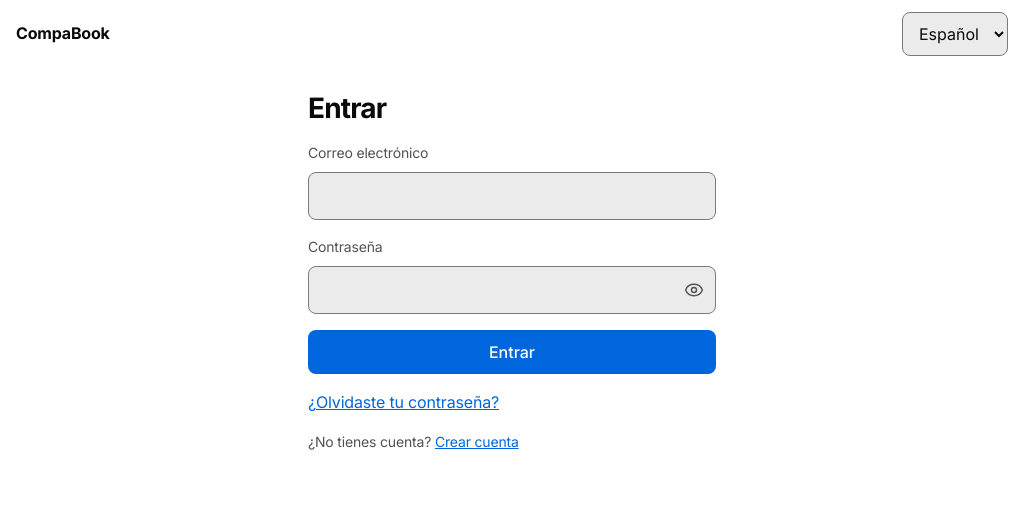
Test case: login › credenciales incorrectas
Type "ana@example.com" into the field labelled "Correo electrónico" at (512, 196), box [308,172,716,220]
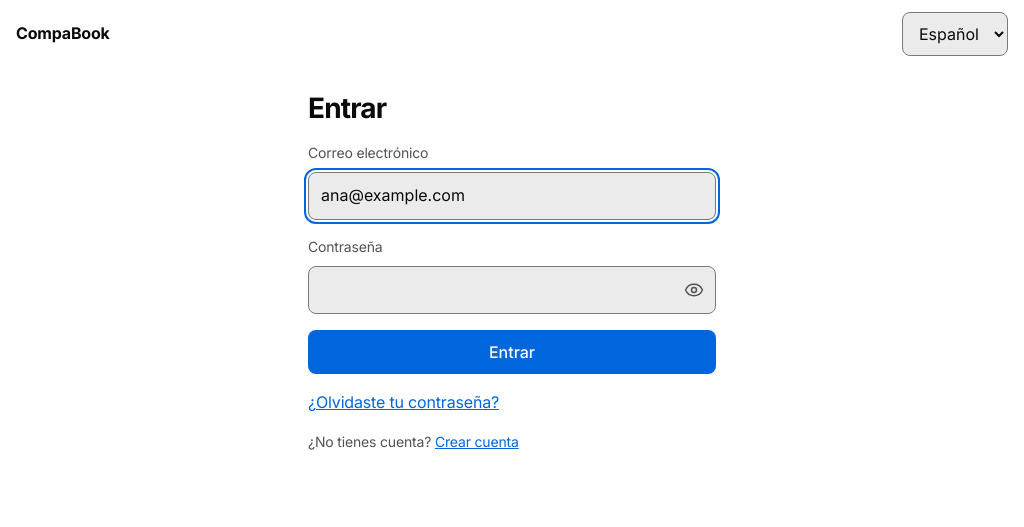
Type "caballo-grapa-azul" into the password field labelled "Contraseña" at (512, 290), box [308,266,716,314]
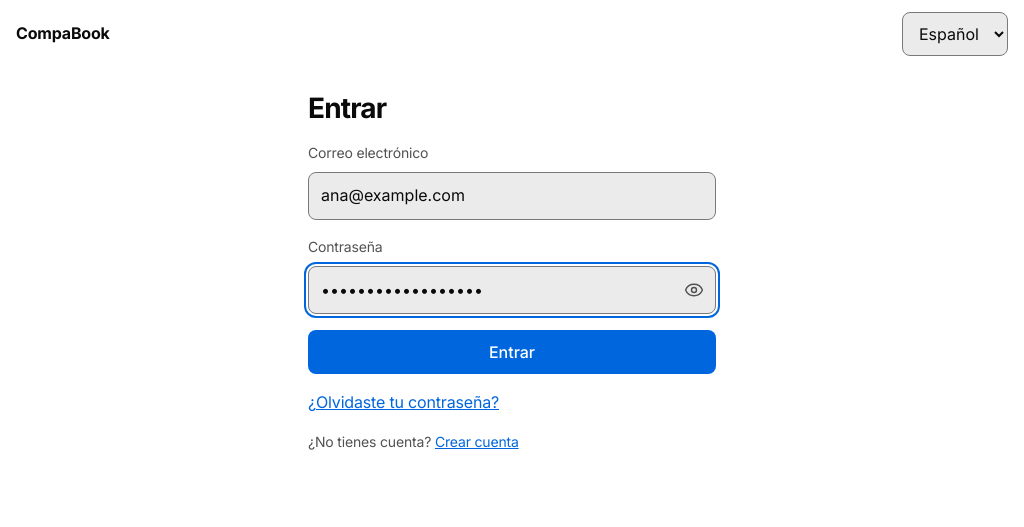
Click the button "Entrar" at (512, 352), box [308,330,716,374]
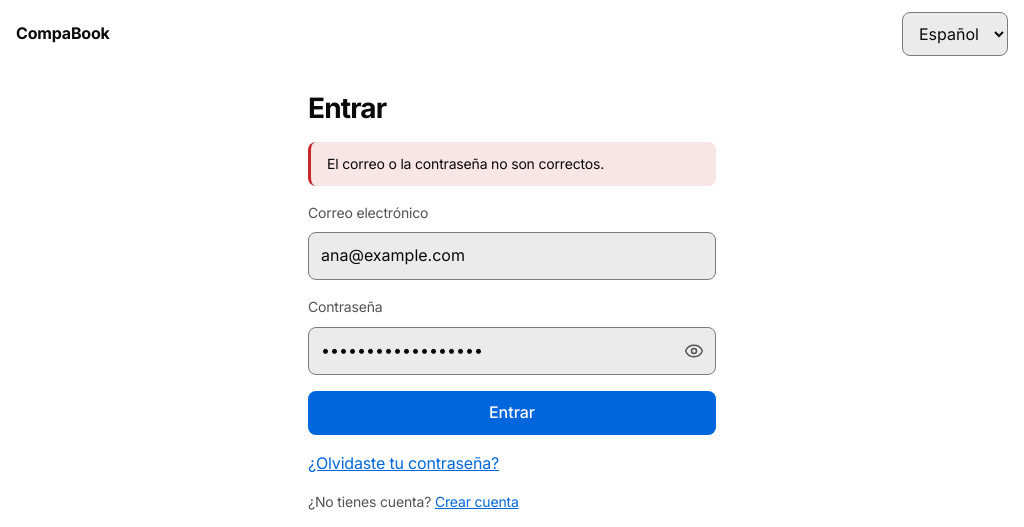
Check: the message reads "El correo o la contraseña no son correctos.", box [327,155,604,172]
